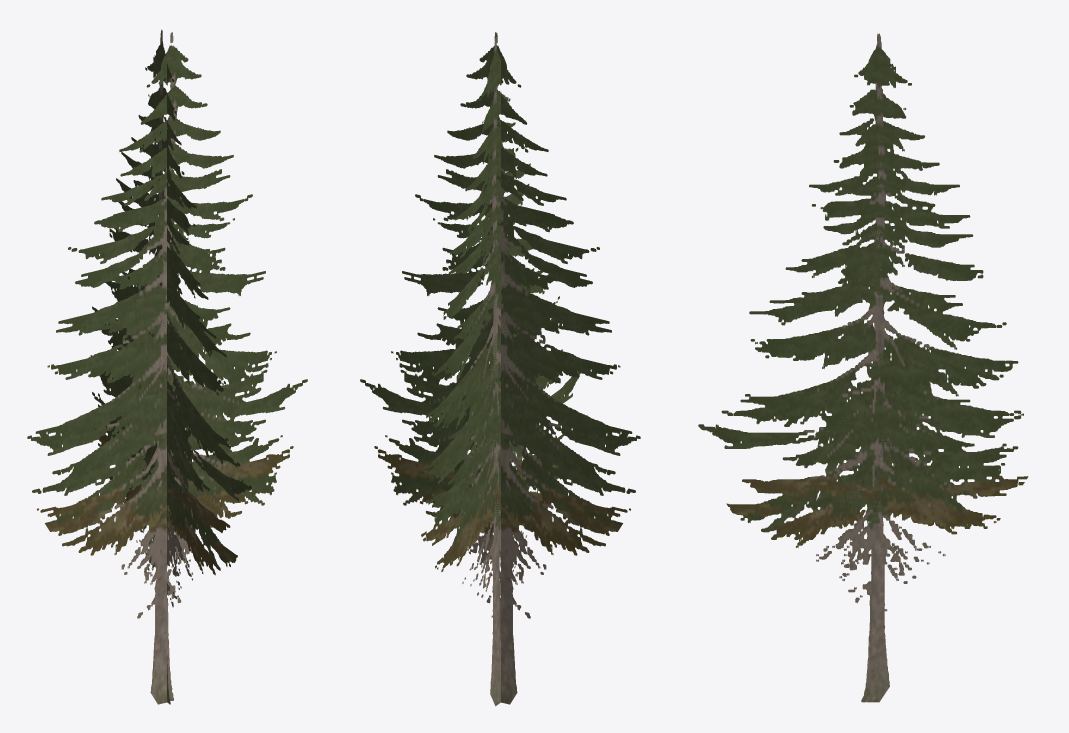
The model's file is spruce1_LOD5.fbx.
3 views of the same model, side by side, from view 1: azimuth 30°, elevation 25°; view 2: azimuth 150°, elevation 25°; view 3: azimuth 270°, elevation 25° (orthographic).
Parts seen in each view (by area): view 1: spruce1 Imposter_0; view 2: spruce1 Imposter_0; view 3: spruce1 Imposter_0.
Boxes of the visible parts, bbox=[...] form: spruce1 Imposter_0: bbox=[27, 29, 307, 704]; spruce1 Imposter_0: bbox=[360, 32, 640, 706]; spruce1 Imposter_0: bbox=[698, 33, 1028, 702].
Size of the model in its own units: 967 by 2130 by 1020.
1 material, 1 textured.
